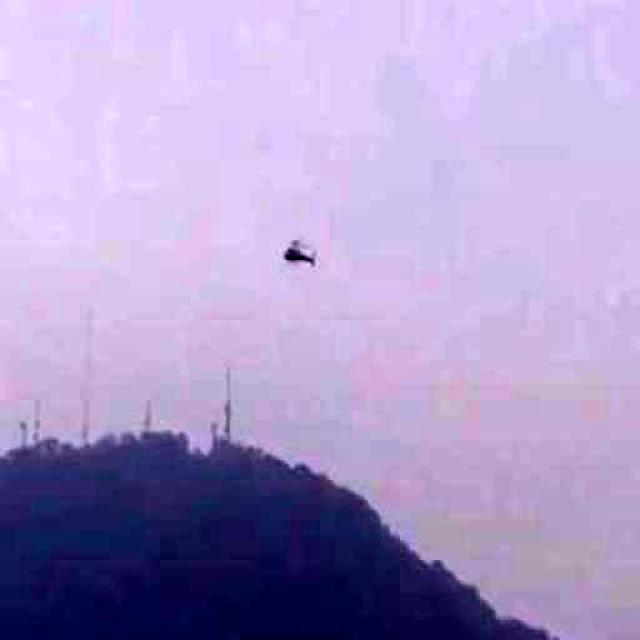drone: (251, 202, 335, 291)
